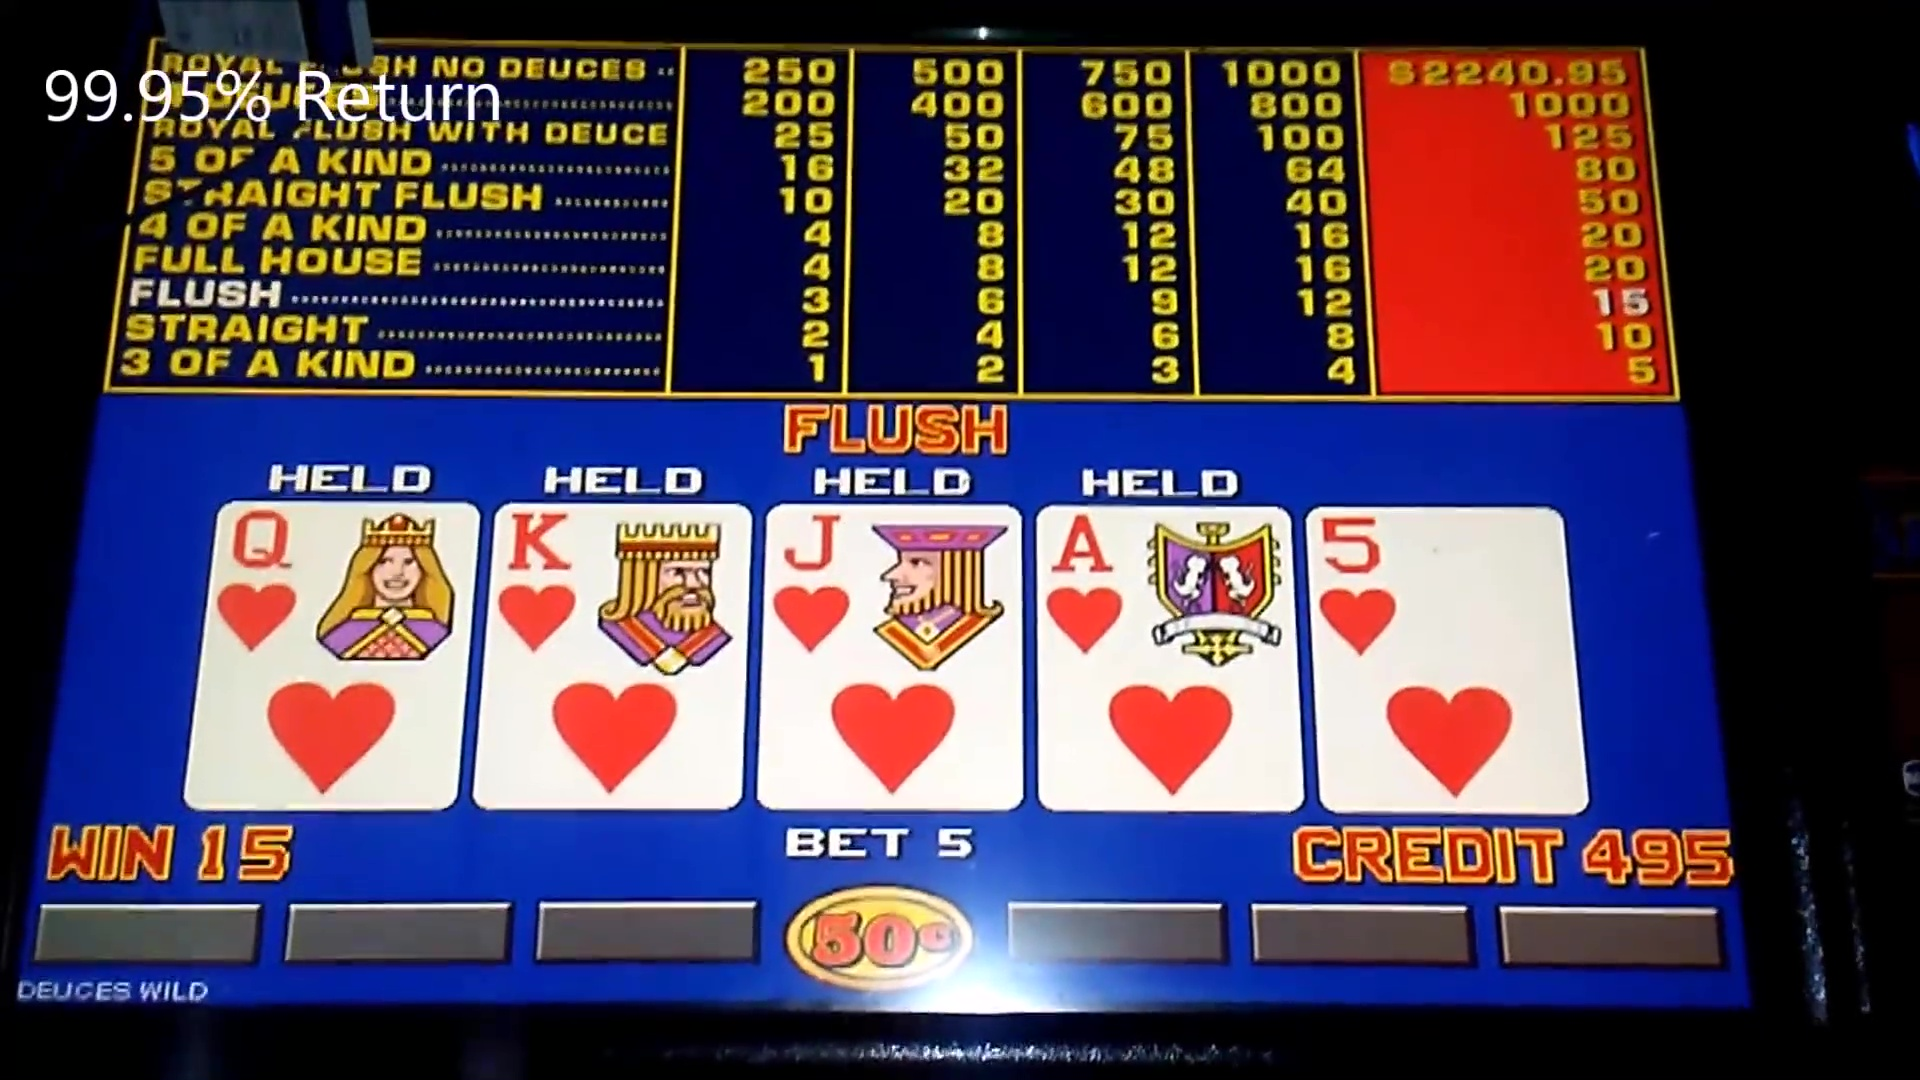H5: (1315, 508, 1569, 816)
HA: (1042, 506, 1296, 810)
HJ: (766, 505, 1025, 812)
HK: (485, 505, 756, 812)
HQ: (218, 506, 469, 811)
